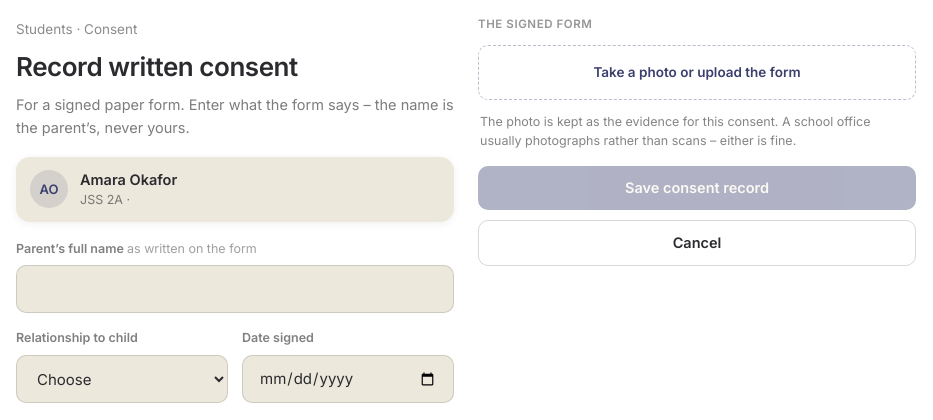
Test: Record written consent › does not claim the parent was told when they were not
The width and height of the screenshot is (933, 420).
Expected: the heading "Record written consent" is shown, [16,51,298,82]
Type "Mrs. Ngozi Okafor" into the field labelled "Parent’s full name as written on the form" at point(235, 289), box [16,265,454,313]
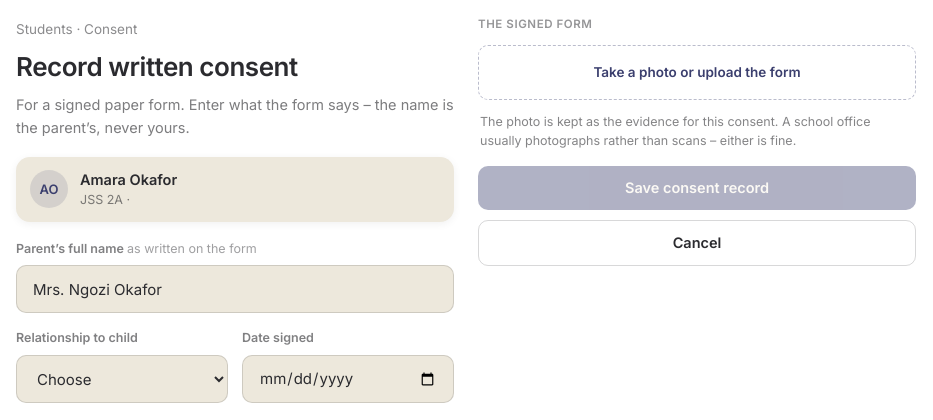
Select "Mother" in the dropdown labelled "Relationship to child" at point(122, 379), box [16,355,228,403]
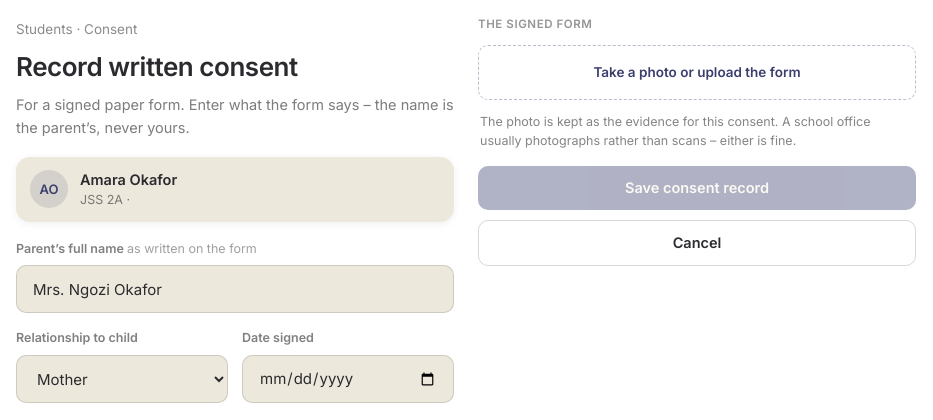
Type "2026-10-01" into the date field labelled "Date signed" at point(348, 379), box [242,355,454,403]
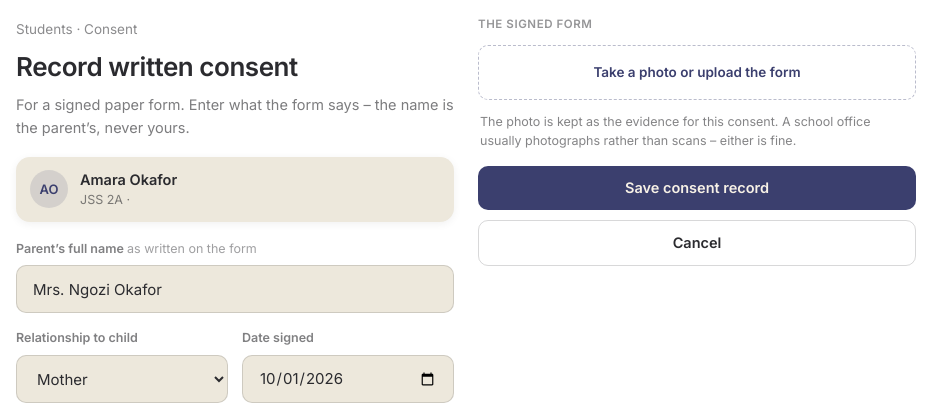
Click the button "Save consent record" at point(697, 188), box [478,166,916,210]
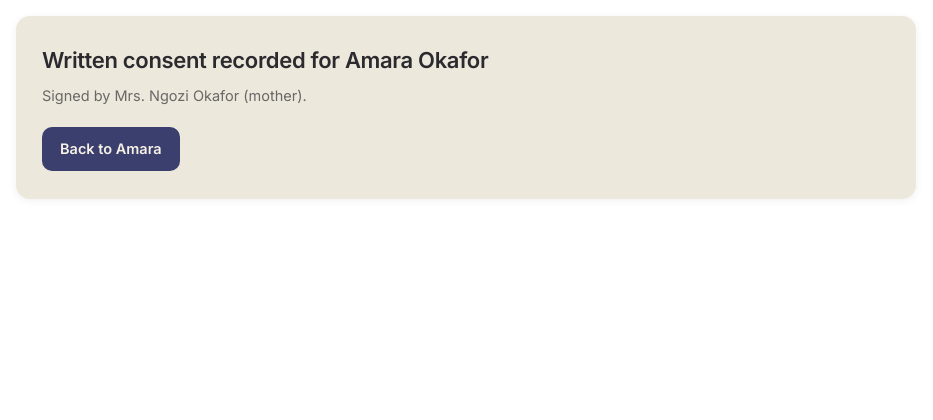
Expected: the text "evidence" is gone
